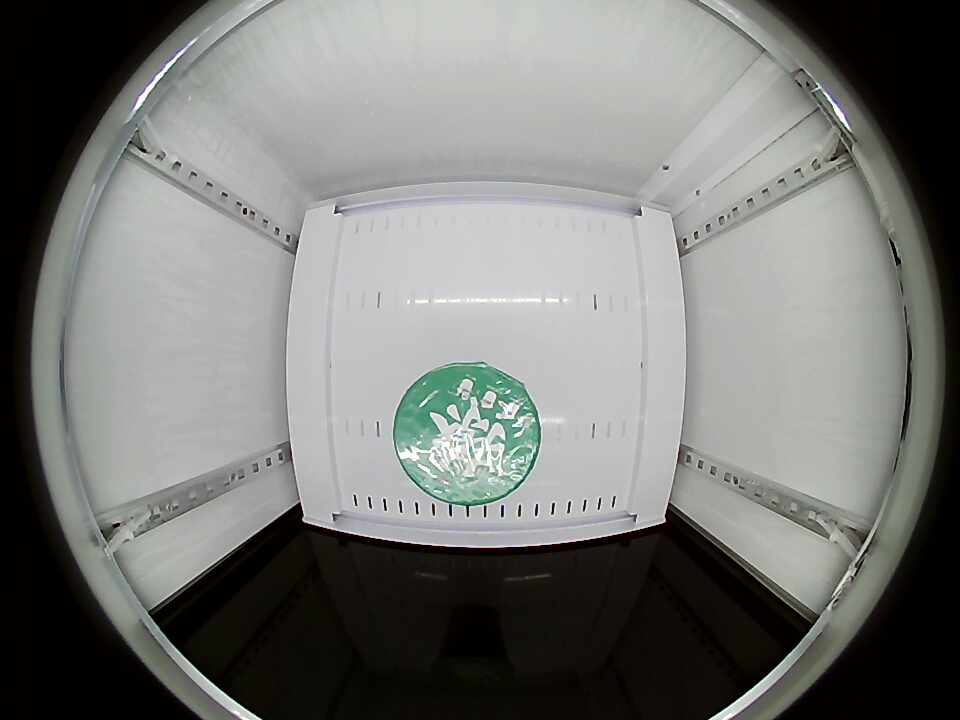liaomian: (394, 362, 540, 505)
